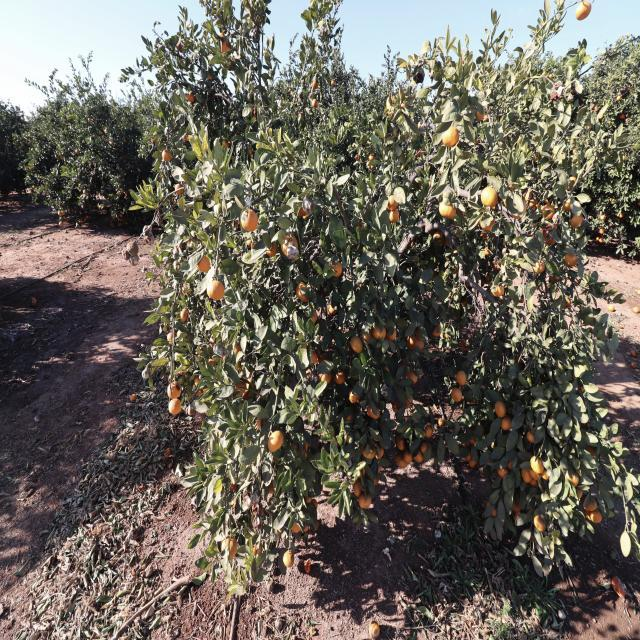Jeruk Sudah Matang: (240, 208, 258, 231), (282, 234, 298, 259), (442, 127, 460, 147), (207, 281, 225, 300), (481, 186, 498, 206), (269, 431, 284, 453), (439, 201, 457, 219), (575, 1, 592, 20), (225, 536, 238, 560), (295, 282, 309, 301), (362, 442, 376, 460), (531, 456, 544, 475), (167, 381, 181, 398), (168, 398, 182, 415), (350, 334, 363, 352), (218, 34, 230, 52), (564, 471, 578, 486), (197, 256, 210, 272), (329, 261, 342, 277), (282, 550, 294, 567), (374, 324, 386, 341), (494, 400, 506, 417), (534, 515, 546, 532), (520, 468, 534, 482), (359, 494, 372, 509), (406, 368, 418, 384), (564, 253, 578, 266), (571, 214, 584, 228), (353, 478, 363, 496), (451, 387, 463, 402), (387, 194, 398, 210), (362, 329, 373, 345), (431, 322, 442, 338), (474, 102, 484, 119), (585, 498, 597, 512), (543, 204, 555, 218), (368, 406, 380, 419), (533, 260, 546, 272), (388, 209, 399, 223), (406, 334, 416, 349), (334, 372, 346, 384), (590, 510, 602, 522), (492, 284, 504, 296), (267, 242, 277, 256), (456, 370, 466, 384), (320, 372, 332, 383), (586, 445, 597, 457), (415, 339, 425, 352), (350, 390, 360, 403), (162, 150, 172, 162), (422, 442, 432, 454), (498, 468, 510, 478), (529, 468, 539, 480), (180, 308, 188, 322), (292, 519, 300, 533), (194, 378, 203, 390), (167, 329, 175, 342), (310, 310, 318, 323), (396, 436, 404, 449), (425, 425, 433, 438), (513, 500, 521, 513), (327, 304, 337, 314), (398, 458, 408, 468), (502, 419, 512, 429), (469, 458, 479, 468), (526, 431, 535, 442), (187, 92, 195, 104), (376, 446, 384, 458), (392, 400, 400, 412), (564, 295, 572, 307), (389, 328, 396, 341), (176, 183, 184, 194), (562, 198, 570, 209), (311, 352, 318, 364), (470, 434, 477, 446), (404, 452, 412, 462), (415, 452, 423, 462), (406, 398, 414, 408), (528, 478, 538, 486), (541, 470, 549, 480), (585, 510, 592, 520), (222, 140, 230, 148), (530, 199, 538, 207), (493, 261, 500, 270), (577, 488, 583, 498), (303, 525, 310, 533), (633, 306, 640, 314), (484, 246, 491, 254), (257, 419, 262, 430), (313, 498, 318, 509), (312, 98, 318, 107), (312, 80, 318, 89), (369, 153, 375, 162), (513, 512, 522, 518), (492, 507, 497, 517), (438, 418, 444, 426), (608, 304, 614, 312), (466, 454, 472, 461), (248, 147, 252, 156), (305, 496, 311, 502), (332, 80, 334, 86), (488, 501, 490, 507)
